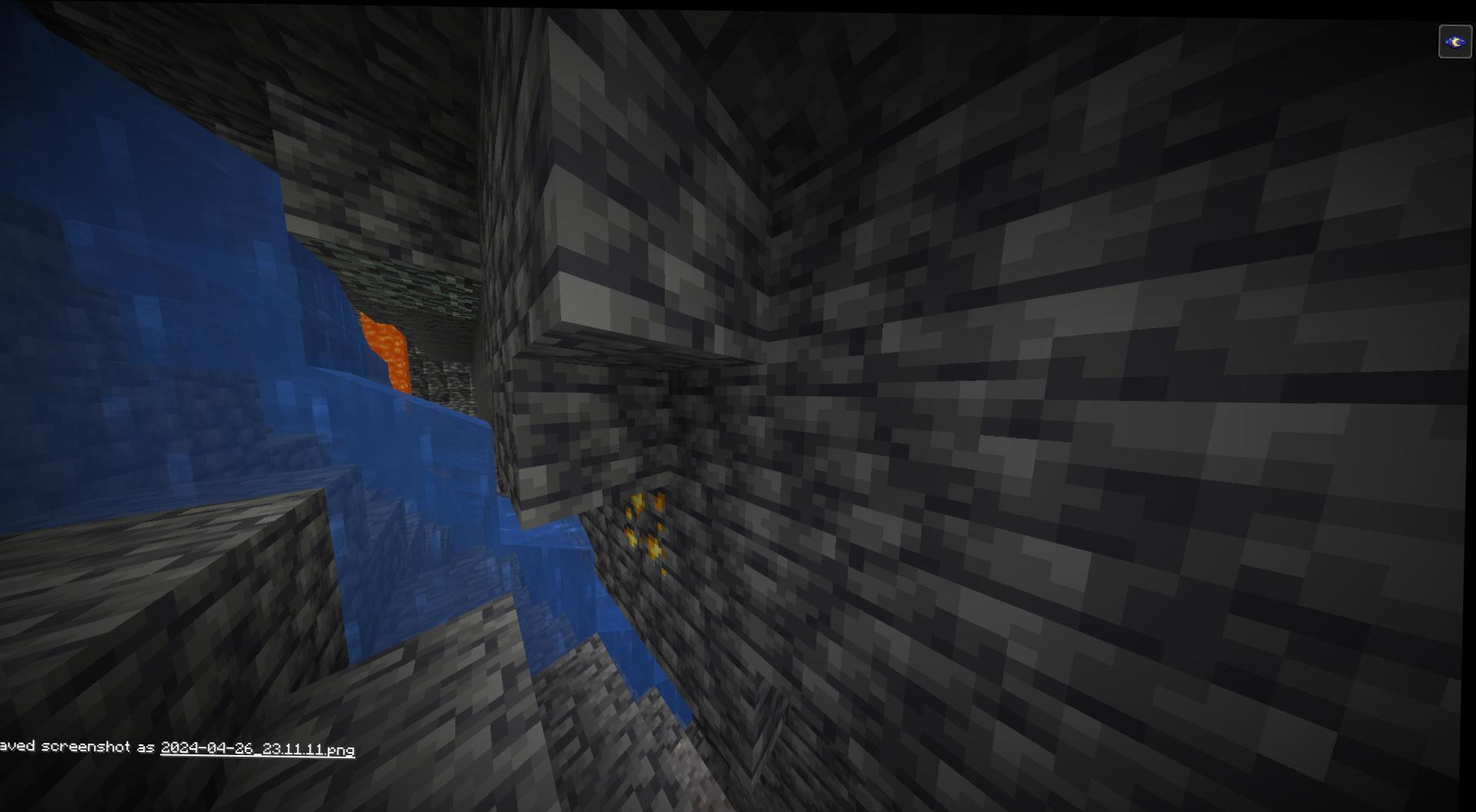gold ore: (615, 481, 674, 560)
